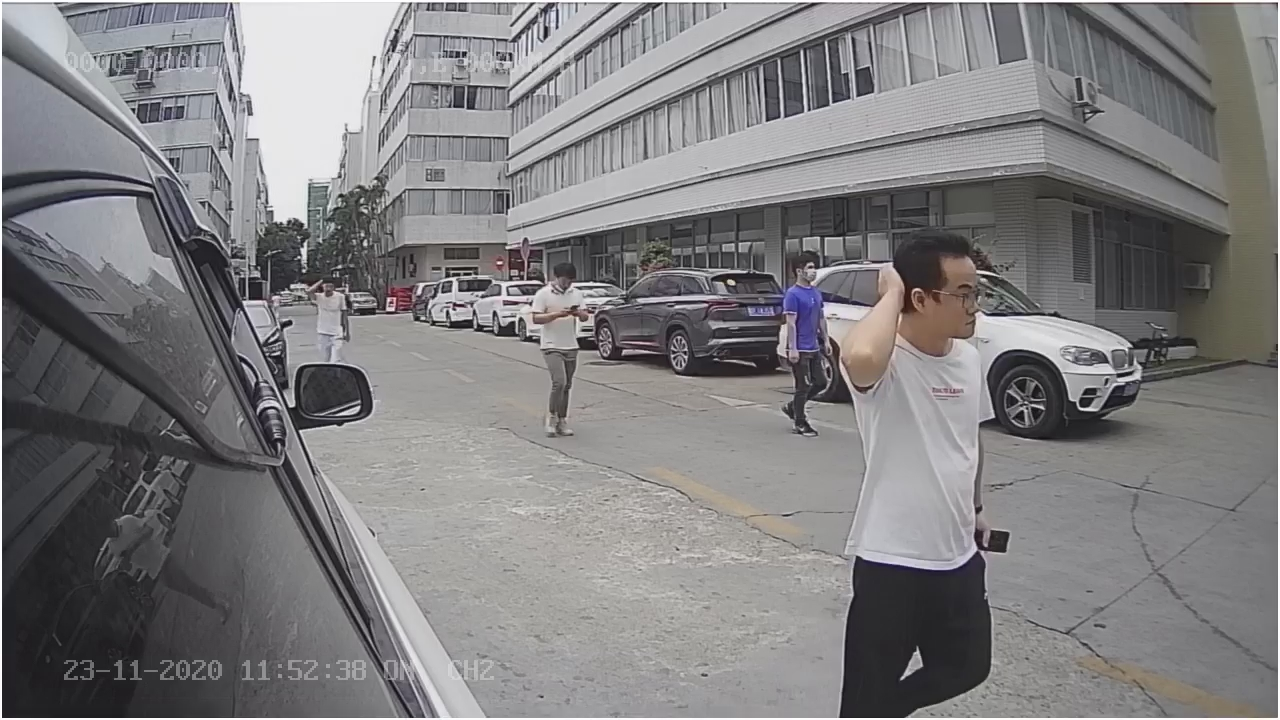person: (840, 233, 1011, 687)
